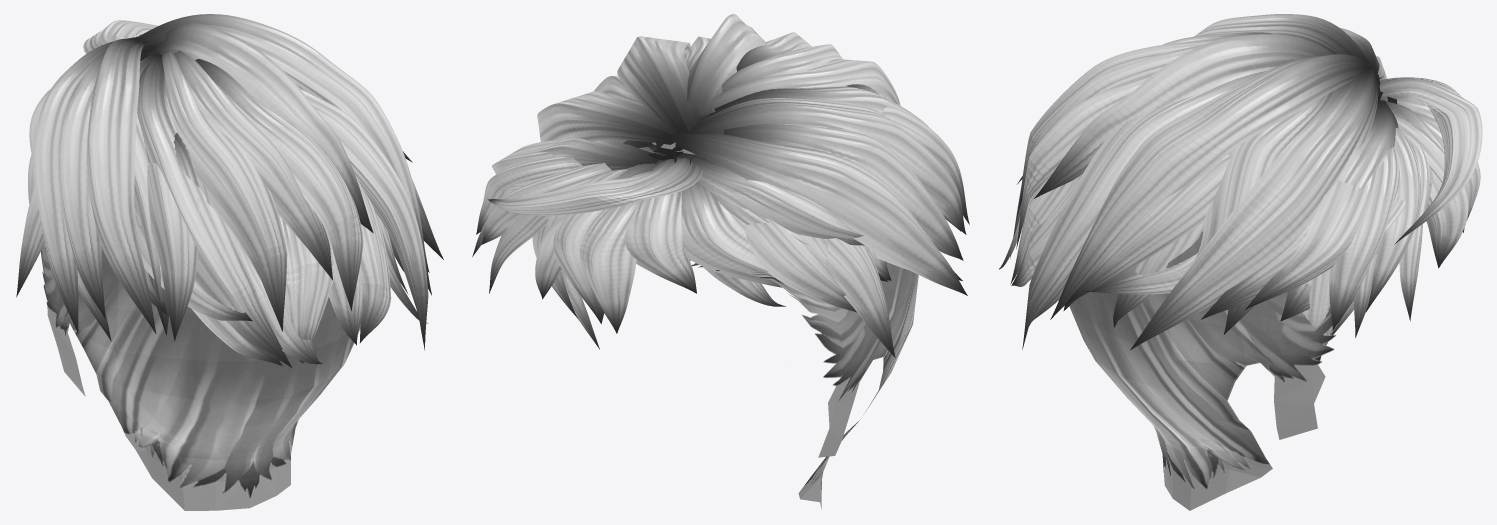
The model's file is hair-feminine-sweptBack.glb.
3 renders of one model, left to right at view 1: azimuth 30°, elevation 25°; view 2: azimuth 150°, elevation 25°; view 3: azimuth 270°, elevation 25°, orthographic. The views are drawn at different scales.
Visible parts, largest first — view 1: hair-sweptBack; view 2: hair-sweptBack; view 3: hair-sweptBack.
Boxes of the visible parts, x1,y1,x2,y2 form: hair-sweptBack: [16, 14, 443, 510]; hair-sweptBack: [472, 14, 969, 509]; hair-sweptBack: [999, 14, 1482, 510].
Bounding box in the file's own units: 0.2623 × 0.2935 × 0.2811.
Materials: 3 (3 with a texture image).
